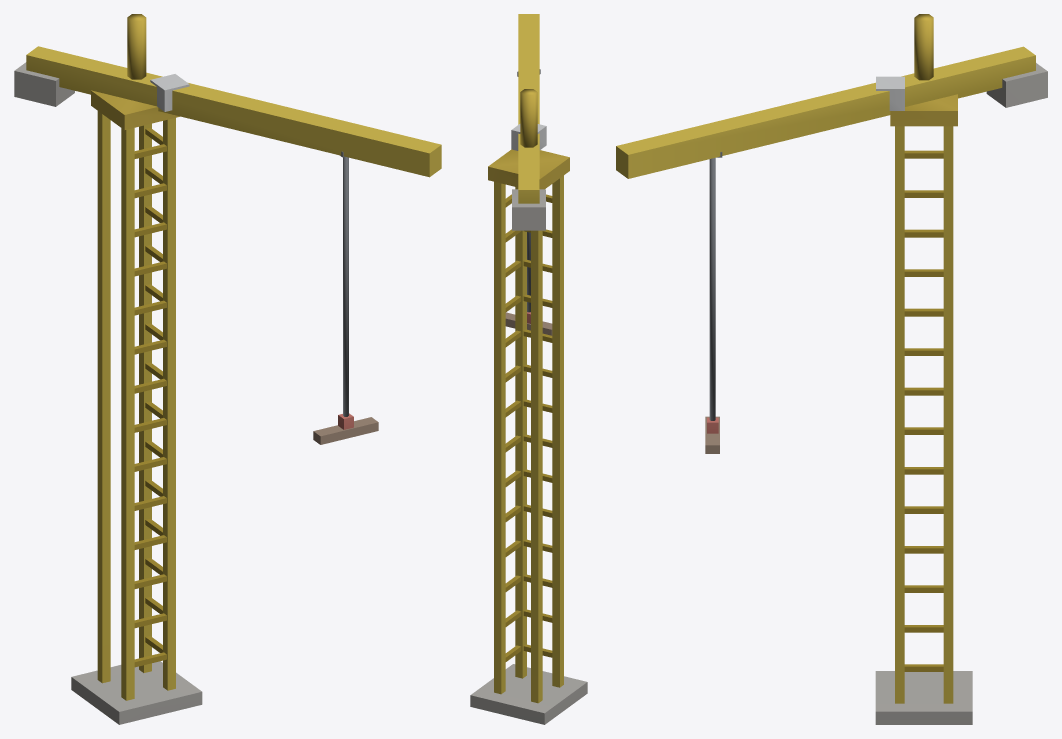
The model's file is crane-1-1.glb.
3 renders of one model, left to right at view 1: azimuth 30°, elevation 25°; view 2: azimuth 150°, elevation 25°; view 3: azimuth 270°, elevation 25°, orthographic. The views are drawn at different scales.
Parts seen in each view (by area): view 1: crane-1-1; view 2: crane-1-1; view 3: crane-1-1.
Part boxes in pixels (left/top/right/bottom): crane-1-1: left=14, top=14, right=441, bottom=724; crane-1-1: left=470, top=14, right=587, bottom=724; crane-1-1: left=616, top=14, right=1047, bottom=724.
Size of the model in its own units: 0.5523 by 1.57 by 0.8916.
